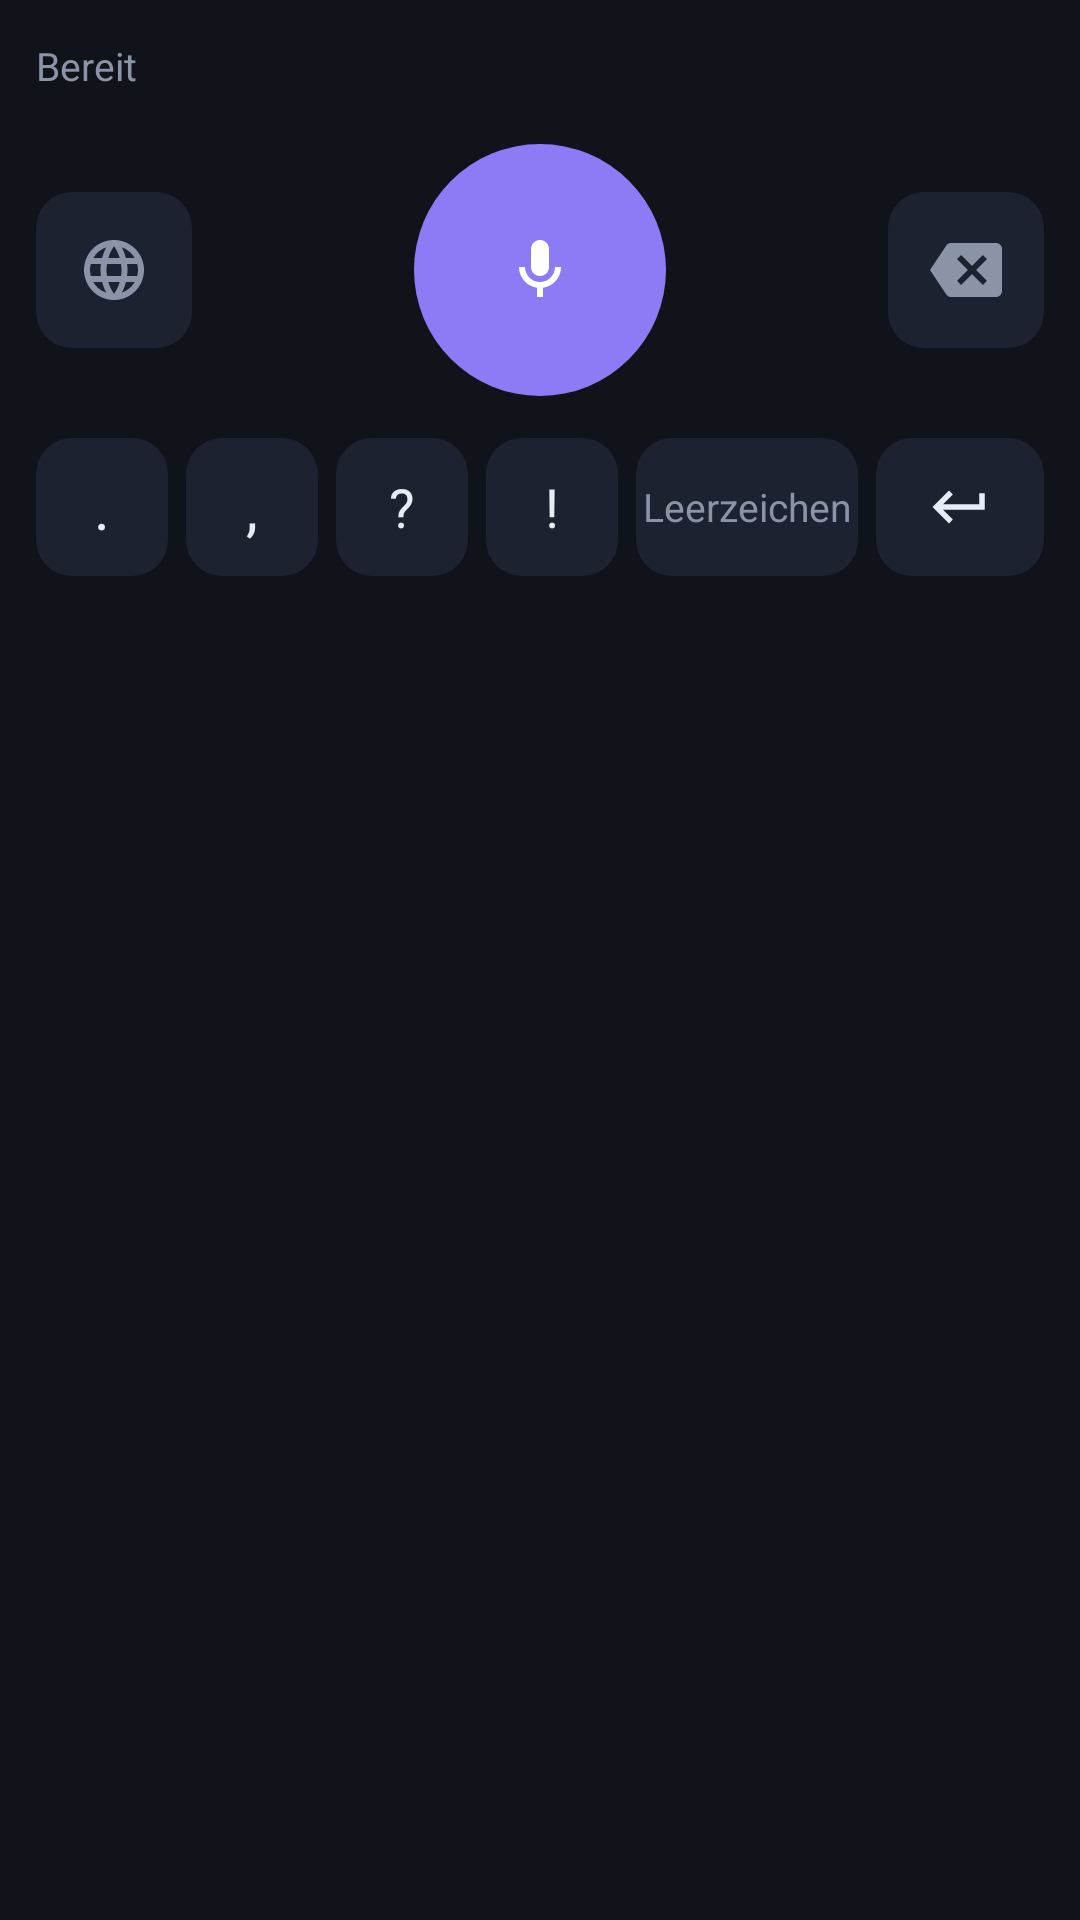

Where to tap for icons on this 1080 × 1920 app screen, as [x,y]:
Diktat starten oder stoppen: [540,270]
Eingabe: [960,507]
Löschen: [966,270]
Tastatur wechseln: [114,270]
